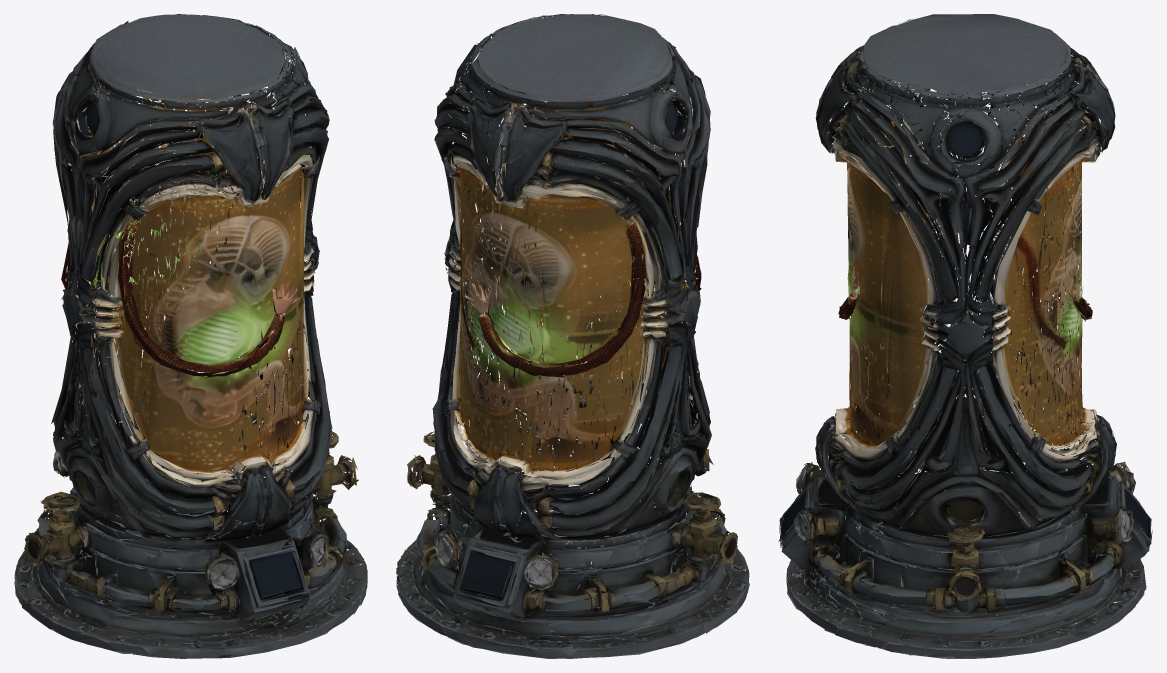
The model's file is vass_hybrid_embryo_incubator.glb.
3 renders of one model, left to right at view 1: azimuth 30°, elevation 25°; view 2: azimuth 150°, elevation 25°; view 3: azimuth 270°, elevation 25°, orthographic.
Visible parts, largest first — view 1: node_0; view 2: node_0; view 3: node_0.
Boxes of the visible parts, x1=… form: node_0: x1=14, y1=14, x2=367, y2=658; node_0: x1=396, y1=14, x2=749, y2=658; node_0: x1=778, y1=14, x2=1152, y2=658.
Size of the model in its own units: 0.6526 by 1.03 by 0.6537.
Materials: 1 (1 with a texture image).
